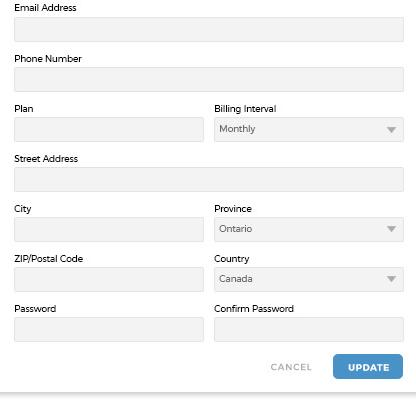button: (332, 353, 403, 380)
field: (10, 164, 405, 193), (7, 65, 406, 93), (10, 15, 404, 43), (212, 314, 403, 344), (8, 114, 204, 143), (10, 314, 205, 343), (9, 214, 204, 242), (213, 115, 405, 143), (11, 265, 205, 292), (214, 217, 406, 243), (212, 267, 404, 293)
field_with_label: (8, 2, 406, 45), (4, 53, 408, 95), (7, 154, 407, 195), (8, 252, 208, 294), (210, 253, 406, 295), (6, 104, 206, 145), (212, 103, 407, 145), (213, 203, 408, 245), (6, 203, 205, 243), (7, 304, 206, 344), (211, 304, 405, 345)
